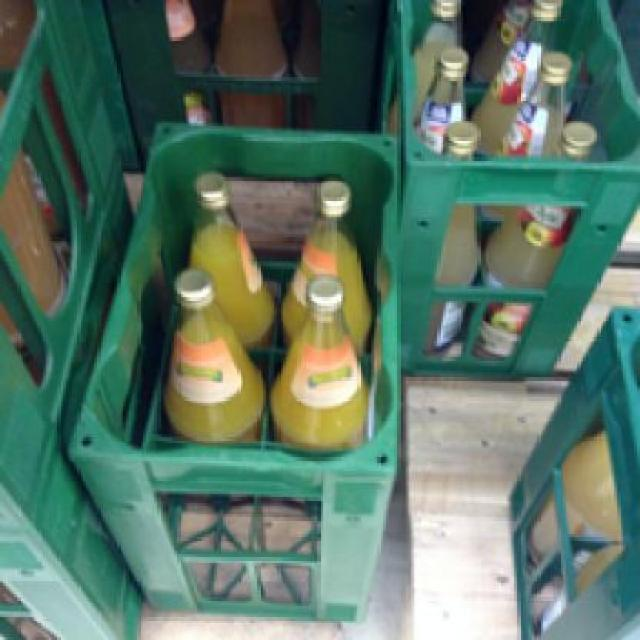Juice: (480, 120, 591, 354), (266, 274, 374, 452), (163, 268, 263, 442), (274, 177, 369, 343), (186, 169, 272, 337)
